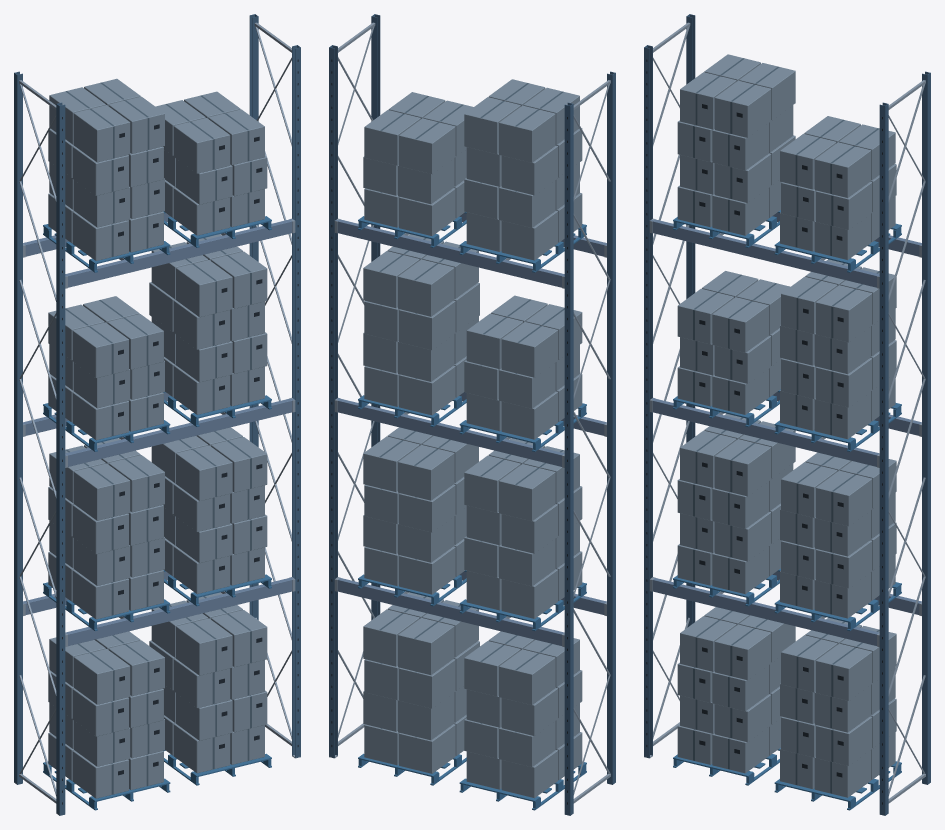
File: SM_GHS_V2Rack_A_W32553.fbx
3 renders of one model, left to right at view 1: azimuth 30°, elevation 25°; view 2: azimuth 150°, elevation 25°; view 3: azimuth 330°, elevation 25°, orthographic.
Parts seen in each view (by area): view 1: SM_GHS_V2Rack_A_W32553; view 2: SM_GHS_V2Rack_A_W32553; view 3: SM_GHS_V2Rack_A_W32553.
Boxes of the visible parts, bbox=[...] form: SM_GHS_V2Rack_A_W32553: bbox=[14, 14, 300, 815]; SM_GHS_V2Rack_A_W32553: bbox=[329, 14, 615, 815]; SM_GHS_V2Rack_A_W32553: bbox=[644, 14, 930, 815].
Size of the model in its own units: 326 by 122 by 915.
